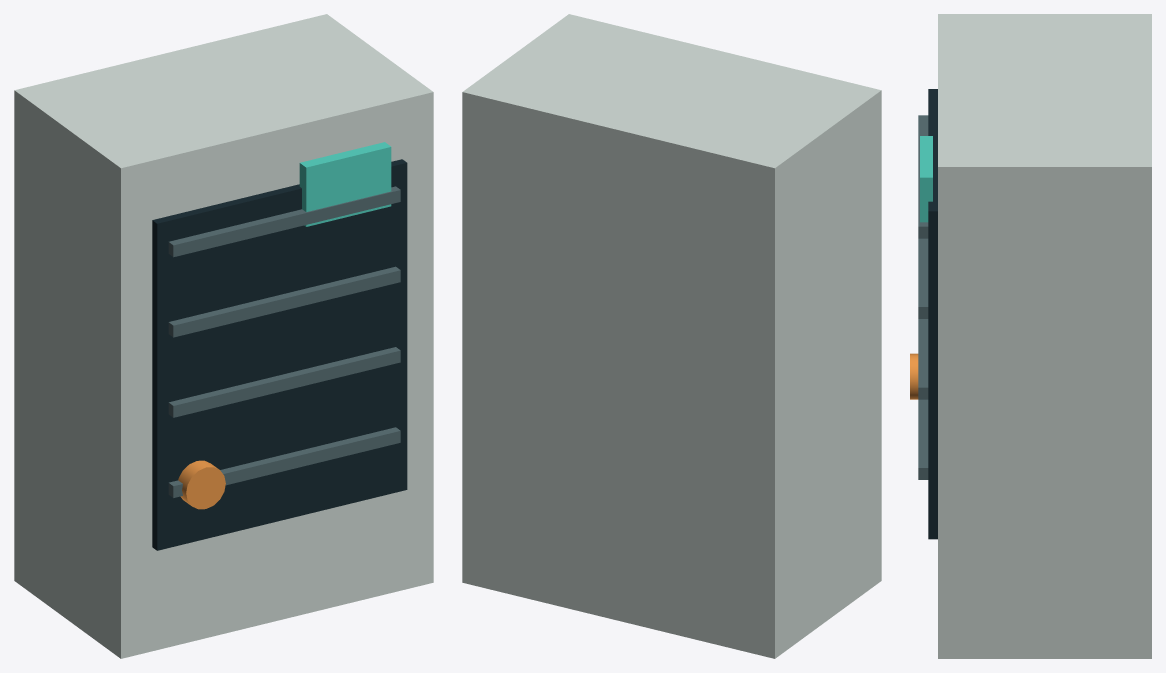
Rendered from experiment-rack.glb.
3 renders of one model, left to right at view 1: azimuth 30°, elevation 25°; view 2: azimuth 150°, elevation 25°; view 3: azimuth 270°, elevation 25°, orthographic.
Visible parts, largest first — view 1: cabinet, equipment_bay, shelf (×4), status_screen, service_port; view 2: cabinet; view 3: cabinet, equipment_bay, shelf (×4), status_screen, service_port.
Boxes of the visible parts, box(x1,y1,x2,y2) form: cabinet: box(14, 14, 433, 658); equipment_bay: box(152, 159, 407, 550); shelf (×4): box(168, 186, 400, 497); status_screen: box(299, 142, 391, 226); service_port: box(178, 460, 225, 509); cabinet: box(462, 14, 881, 658); cabinet: box(938, 14, 1151, 658); equipment_bay: box(928, 89, 937, 539); shelf (×4): box(918, 115, 928, 479); status_screen: box(920, 136, 932, 222); service_port: box(910, 353, 918, 399).
Size of the model in its own units: 1.1 by 1.65 by 0.735.
